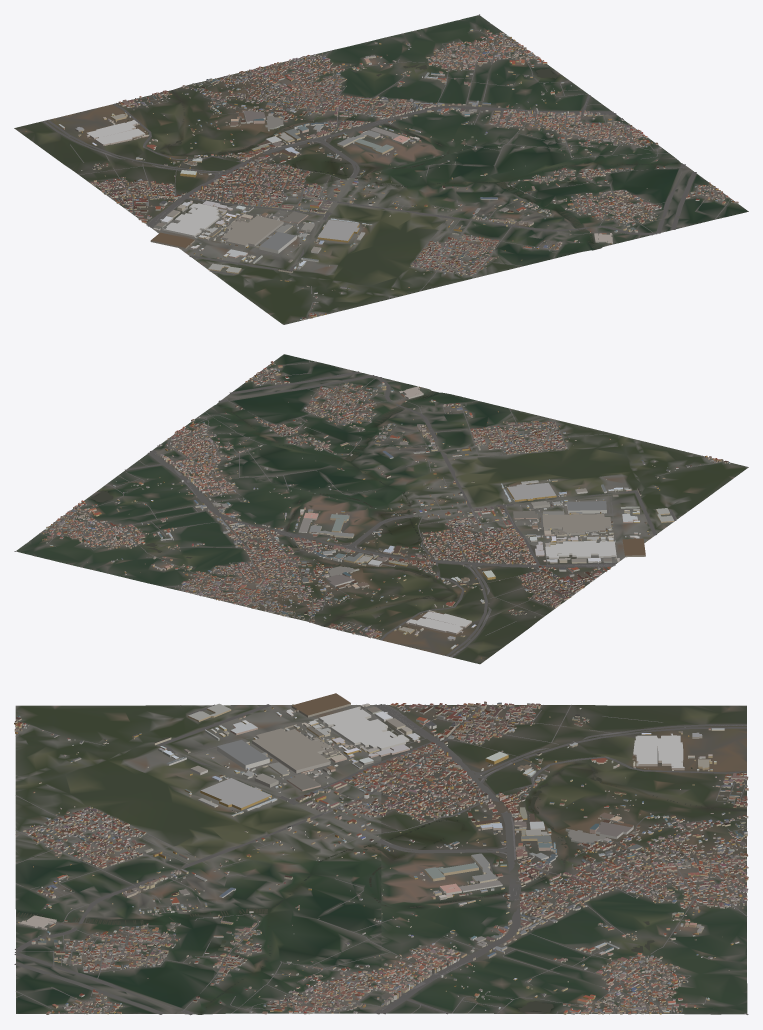
3 renders of one model, top to bottom at view 1: azimuth 30°, elevation 25°; view 2: azimuth 150°, elevation 25°; view 3: azimuth 270°, elevation 25°, orthographic. The views are drawn at different scales.
Parts seen in each view (by area): view 1: ground, buildings, roads, water; view 2: ground, buildings, roads, water; view 3: ground, buildings, roads, water.
Boxes of the visible parts, bbox=[...] form: ground: bbox=[14, 15, 748, 324]; buildings: bbox=[25, 29, 738, 319]; roads: bbox=[42, 14, 730, 316]; water: bbox=[127, 26, 672, 248]; ground: bbox=[16, 354, 748, 664]; buildings: bbox=[41, 361, 730, 658]; roads: bbox=[14, 360, 709, 657]; water: bbox=[37, 391, 456, 627]; ground: bbox=[15, 705, 747, 1014]; buildings: bbox=[14, 693, 748, 1014]; roads: bbox=[14, 704, 748, 1015]; water: bbox=[16, 763, 746, 1012].
Bounding box in the file's own units: 2894 × 29.68 × 2818.
